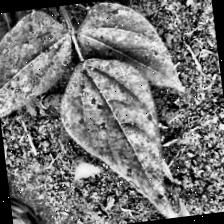ALS: (55, 51, 180, 224), (0, 4, 84, 141), (74, 0, 183, 103)
